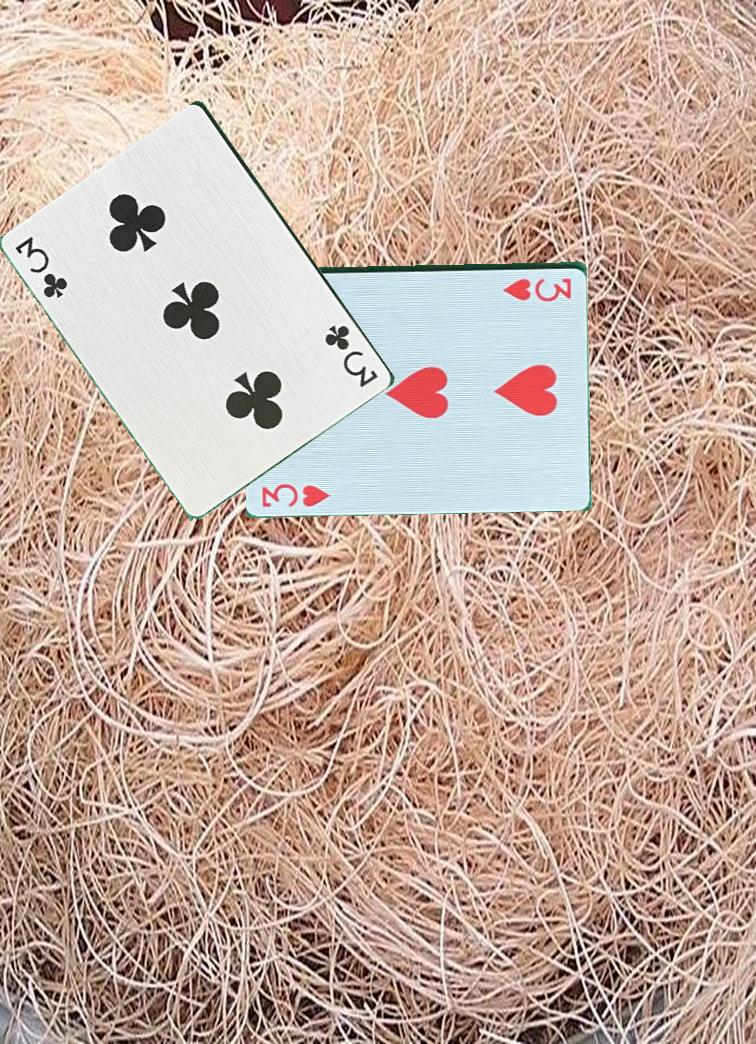3c: (12, 233, 78, 307), (315, 321, 382, 391)
3h: (252, 478, 339, 510), (500, 273, 575, 299)
